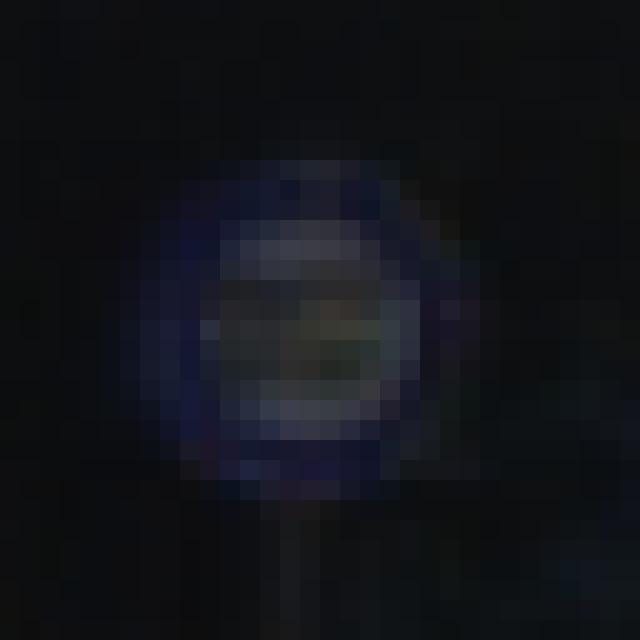SPEED LIMIT 120: (139, 183, 441, 475)
